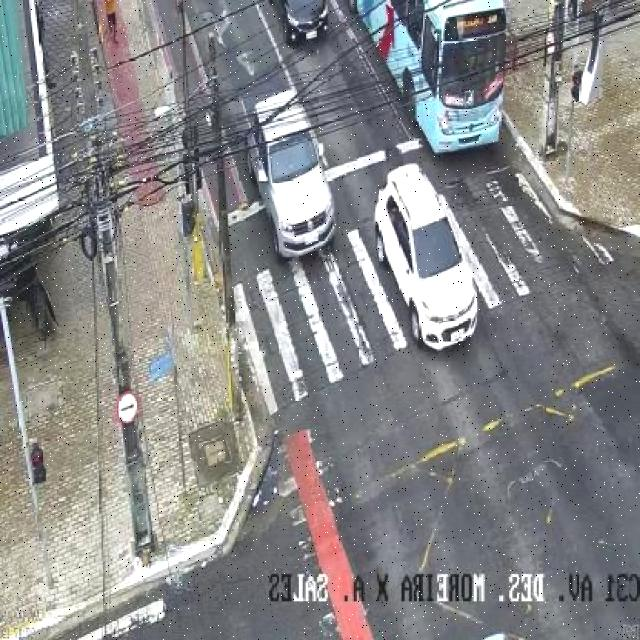bus: (349, 0, 521, 152)
car: (378, 162, 479, 346), (244, 86, 330, 259), (274, 3, 332, 51)
